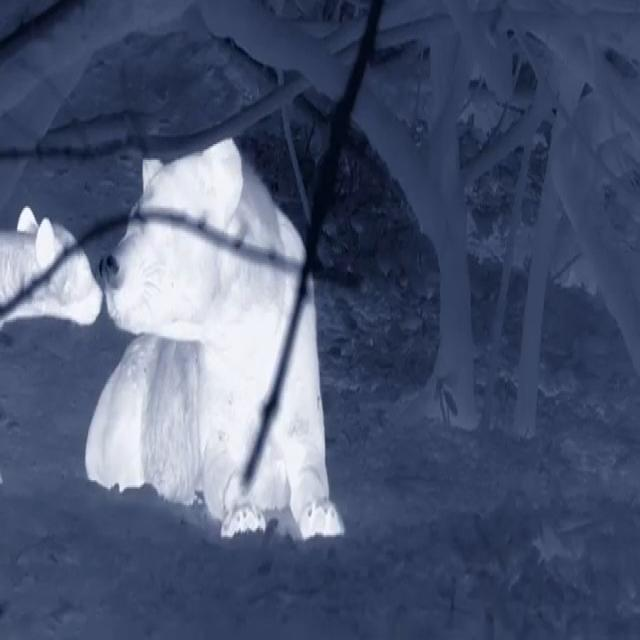animal: (88, 134, 393, 590), (0, 172, 104, 412)
